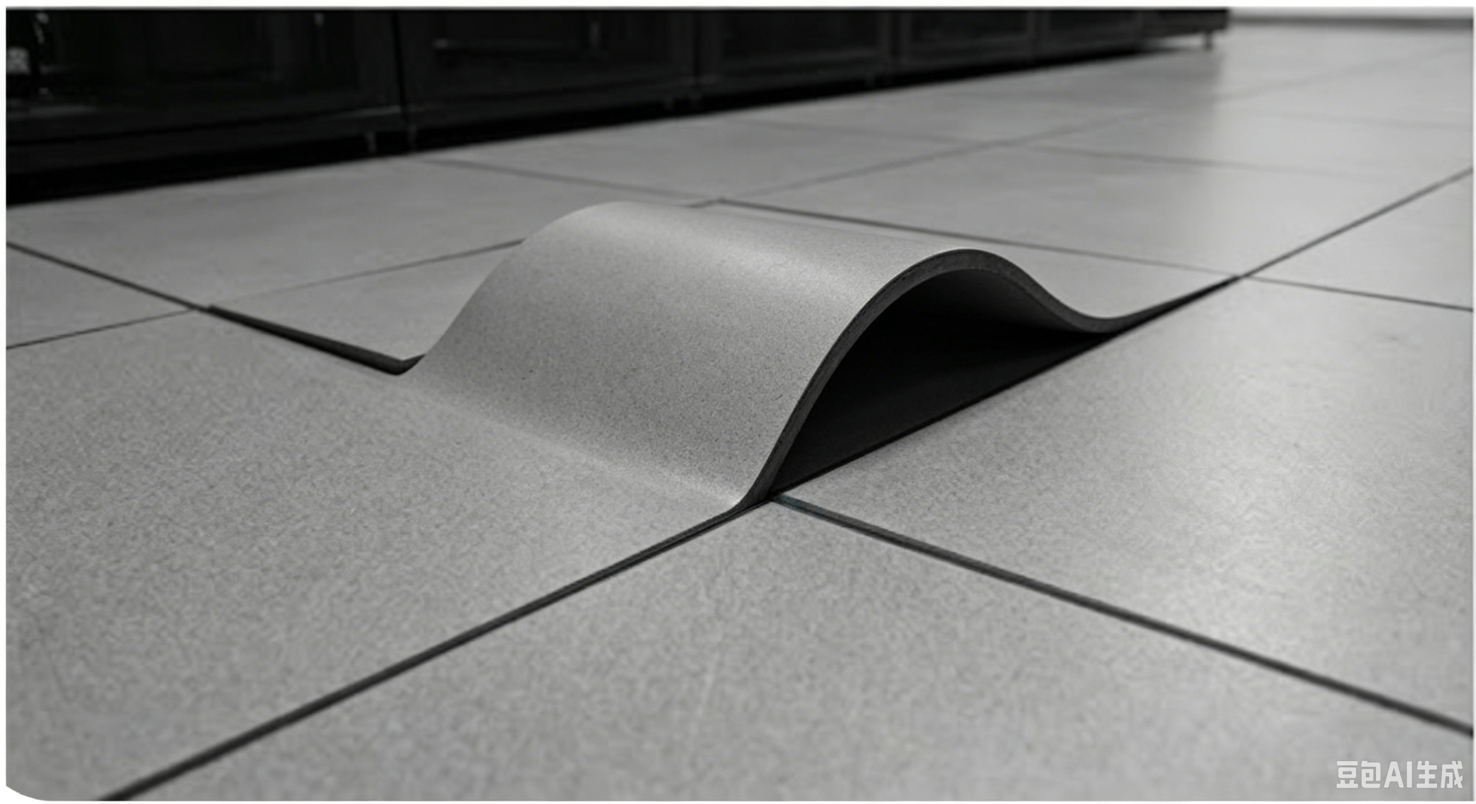floor_defect: (216, 162, 1245, 502)
